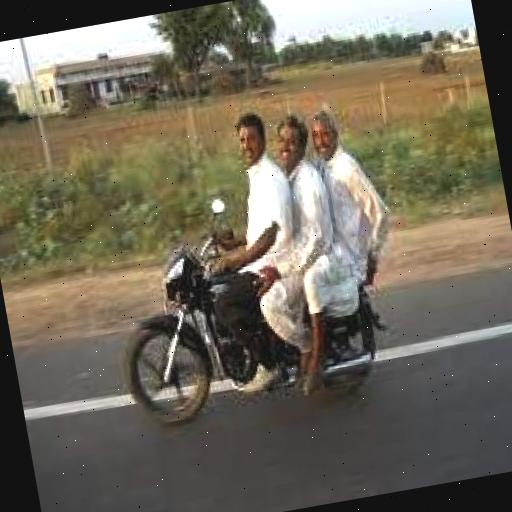no helmet: (216, 97, 284, 178)
triple riding: (83, 67, 409, 437)
